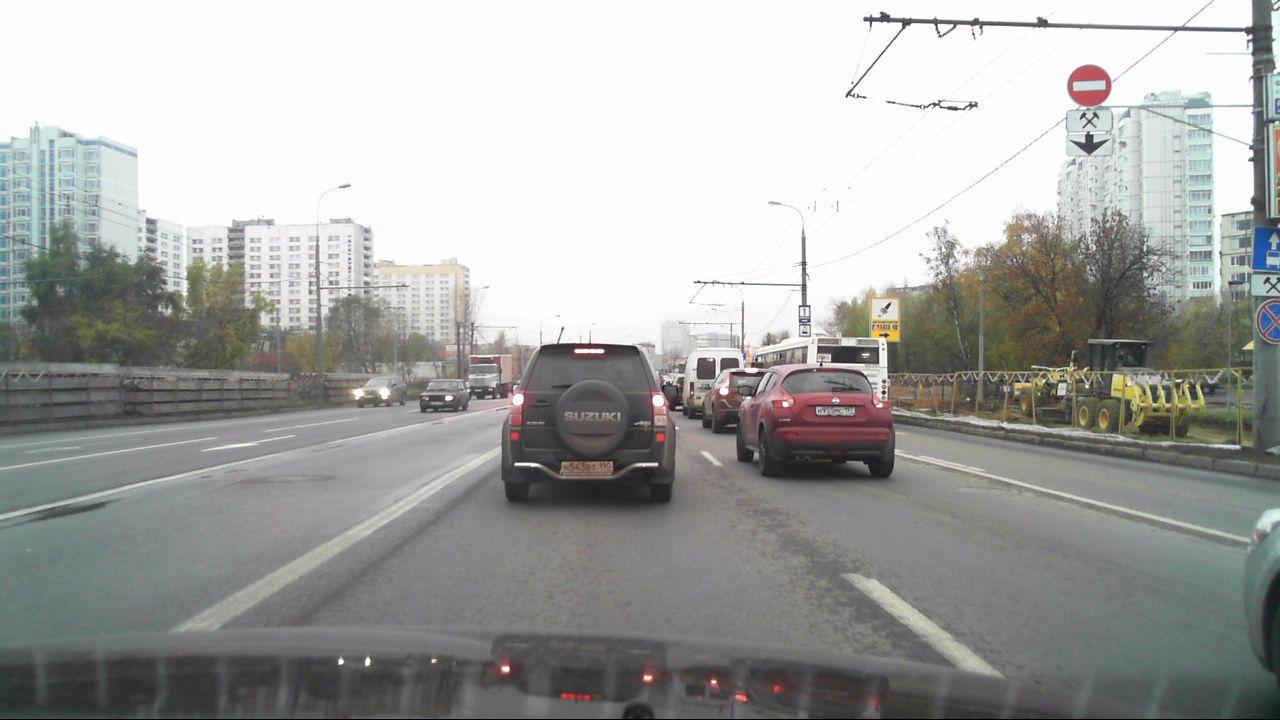3_1: (1068, 61, 1114, 107)
3_27: (1254, 300, 1280, 345)
5_14_1: (1248, 224, 1280, 271)
7_4: (798, 305, 812, 323)
7_5: (797, 324, 812, 337)
8_14: (1066, 134, 1113, 157)
8_5_2: (1067, 110, 1112, 132), (1251, 273, 1280, 297)
